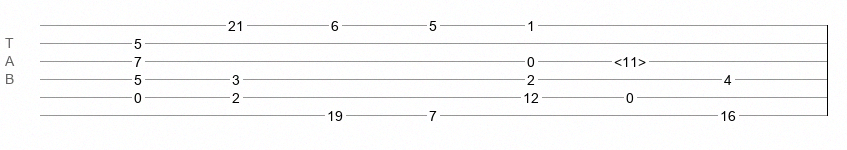0: (134, 90, 142, 100), (527, 54, 535, 64), (626, 90, 634, 100)
1: (527, 18, 535, 28)
12: (523, 90, 539, 100)
16: (720, 108, 736, 118)
19: (327, 108, 343, 118)
2: (232, 90, 240, 100), (527, 72, 535, 82)
21: (228, 18, 244, 28)
3: (232, 72, 240, 82)
4: (724, 72, 732, 82)
5: (134, 36, 142, 46), (134, 72, 142, 82), (429, 18, 437, 28)
6: (331, 18, 339, 28)
7: (134, 54, 142, 64), (429, 108, 437, 118)
harmonic: (614, 54, 646, 64)
